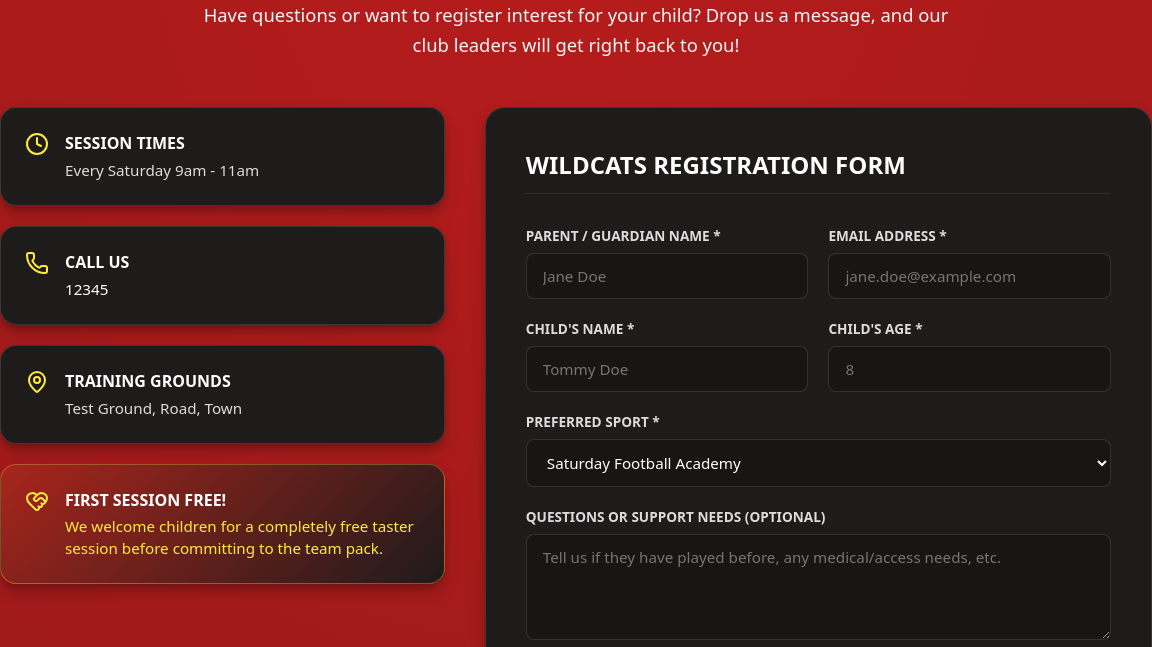
Test case: Contact Component › submits interest registration form successfully
Note: Fill out form
Type "John Smith" into the field labelled "Parent / Guardian Name *" at [667, 276], box [526,253,808,299]
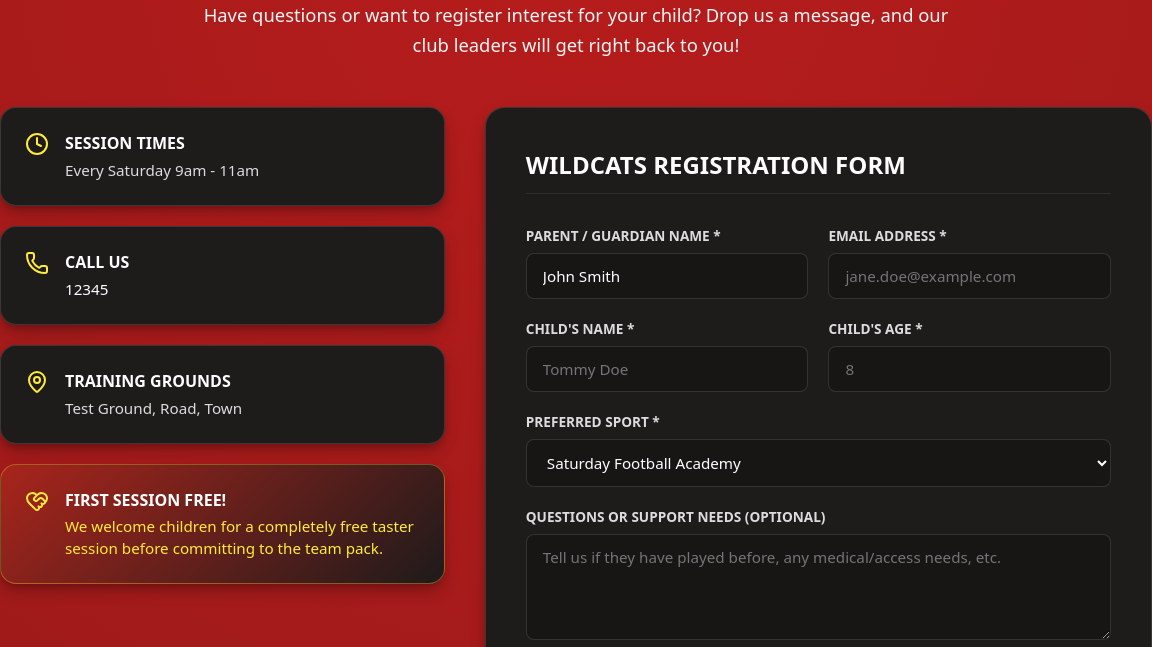
Type "john@test.com" into the field labelled "Email Address *" at [970, 276], box [828,253,1111,299]
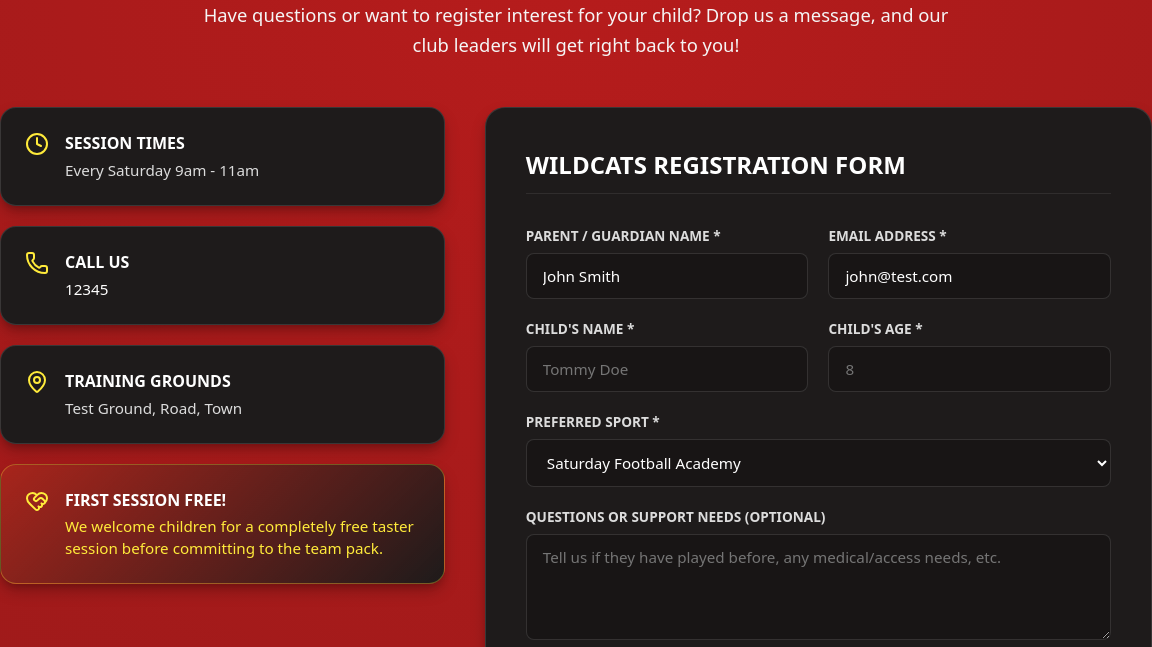
Type "Billy Smith" into the field labelled "Child's Name *" at [667, 369], box [526,346,808,392]
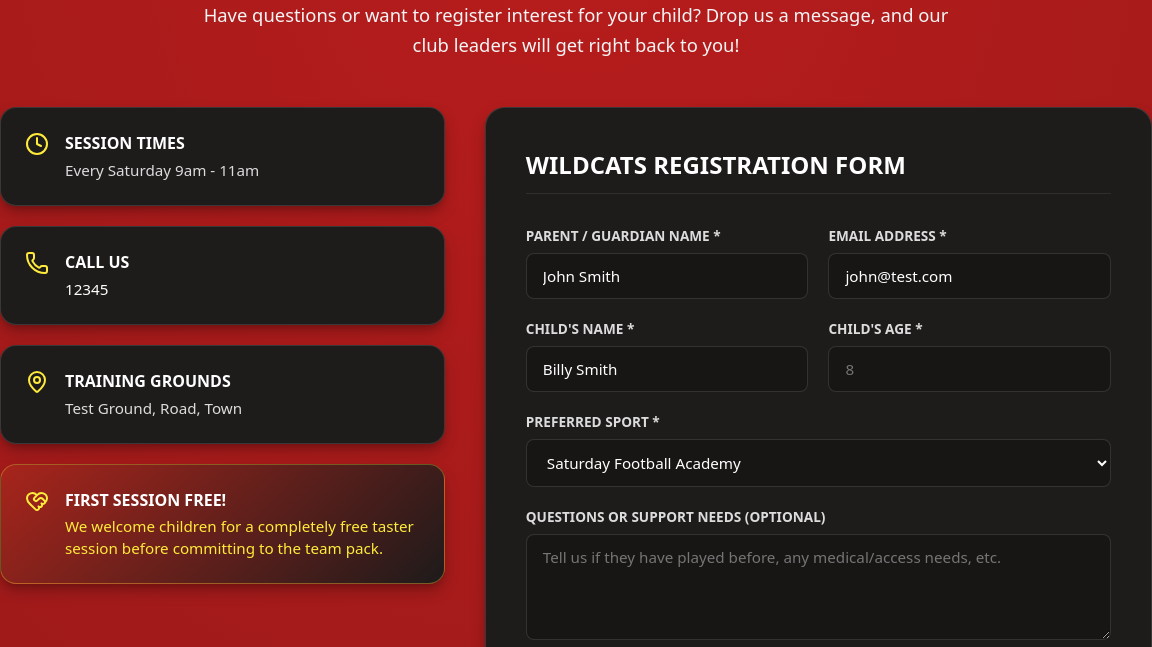
Type "9" into the number field labelled "Child's Age *" at [970, 369], box [828,346,1111,392]
(page scrolled)
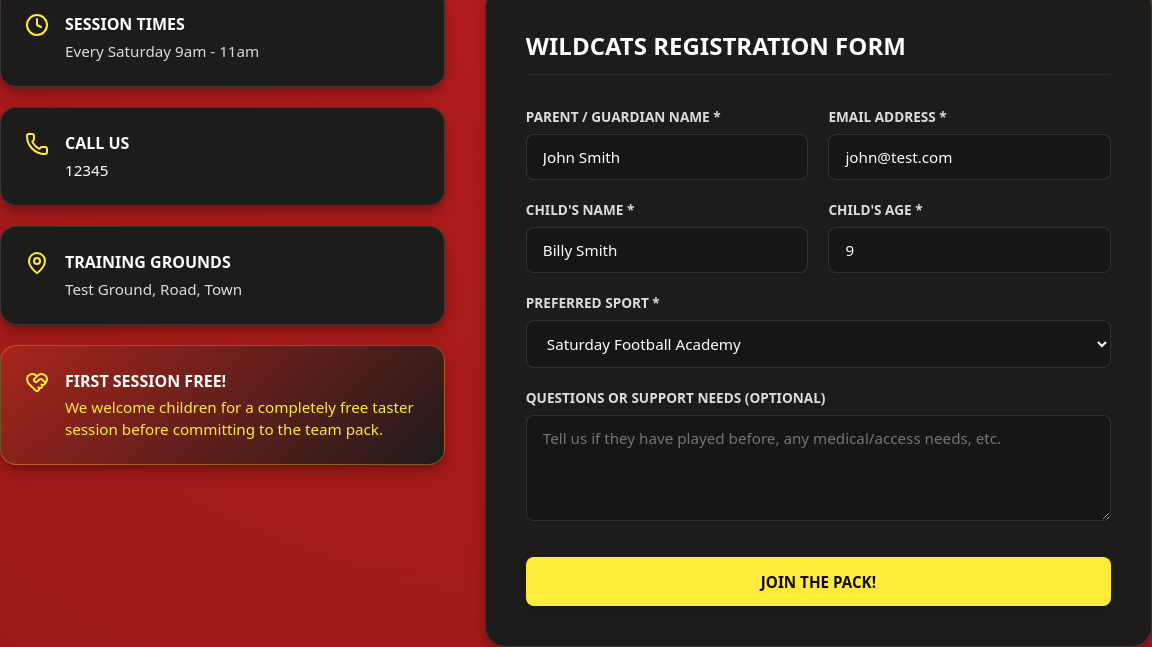
Note: Click submit
Click the button "Join the Pack!" at [818, 582], box [526,557,1111,606]
(page scrolled)
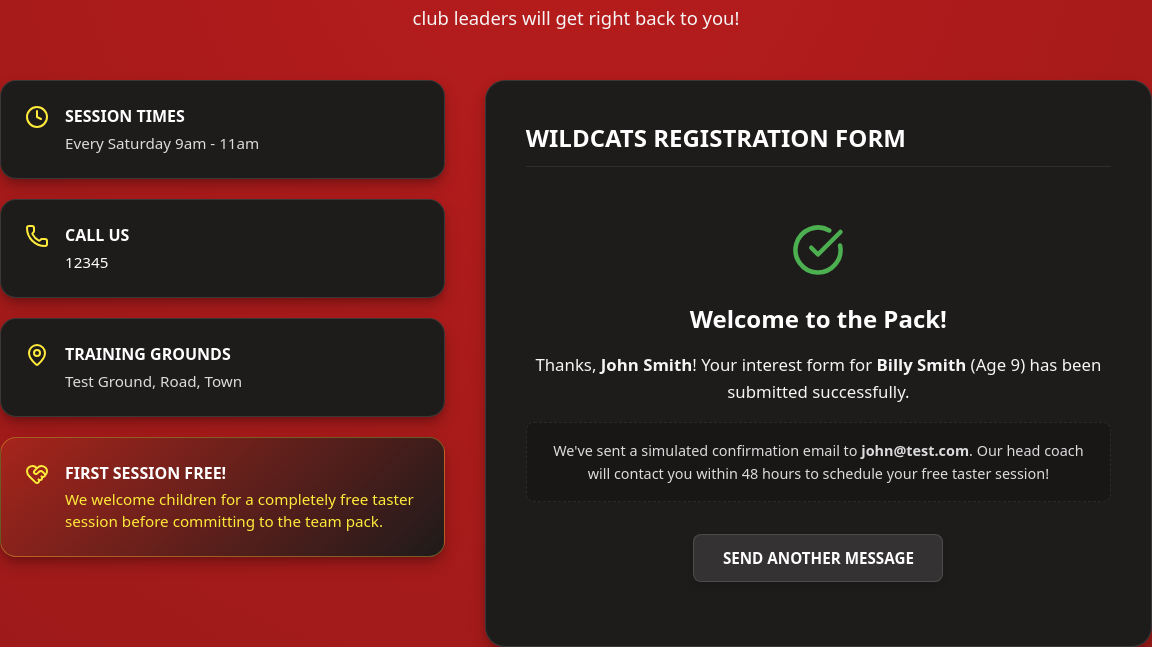
Check: the message is shown, box [526,199,1111,606]
Check: the heading "Welcome to the Pack!" is shown, box [690,302,947,335]
Check: the text "John Smith" is shown, box [601,353,692,376]
